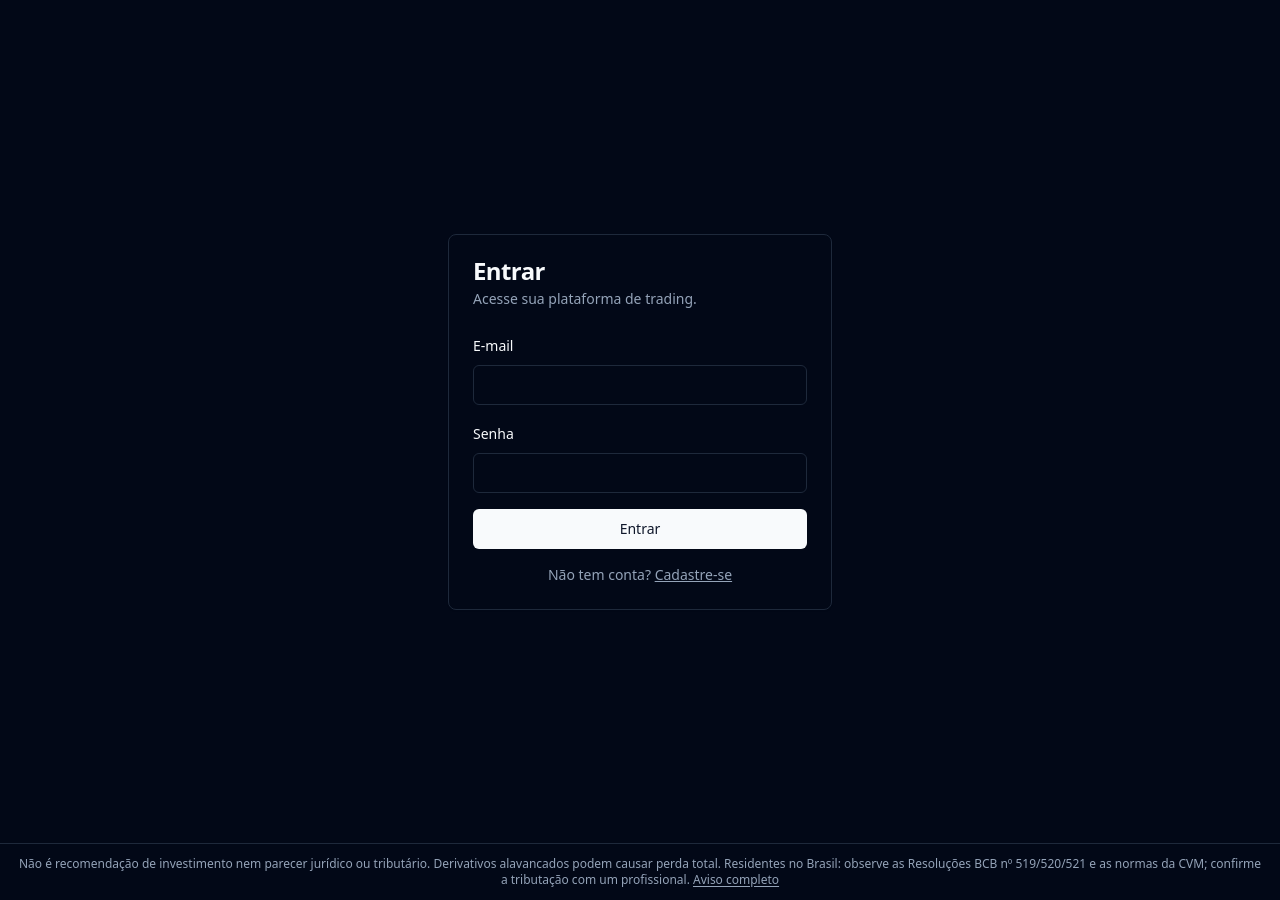
Test: AuthForm › switches to recovery codes and back to the password step
Step 1. Type "ana@exemplo.com" into the field labelled "E-mail" → {"x": 640, "y": 384}, box [473,364,807,404]
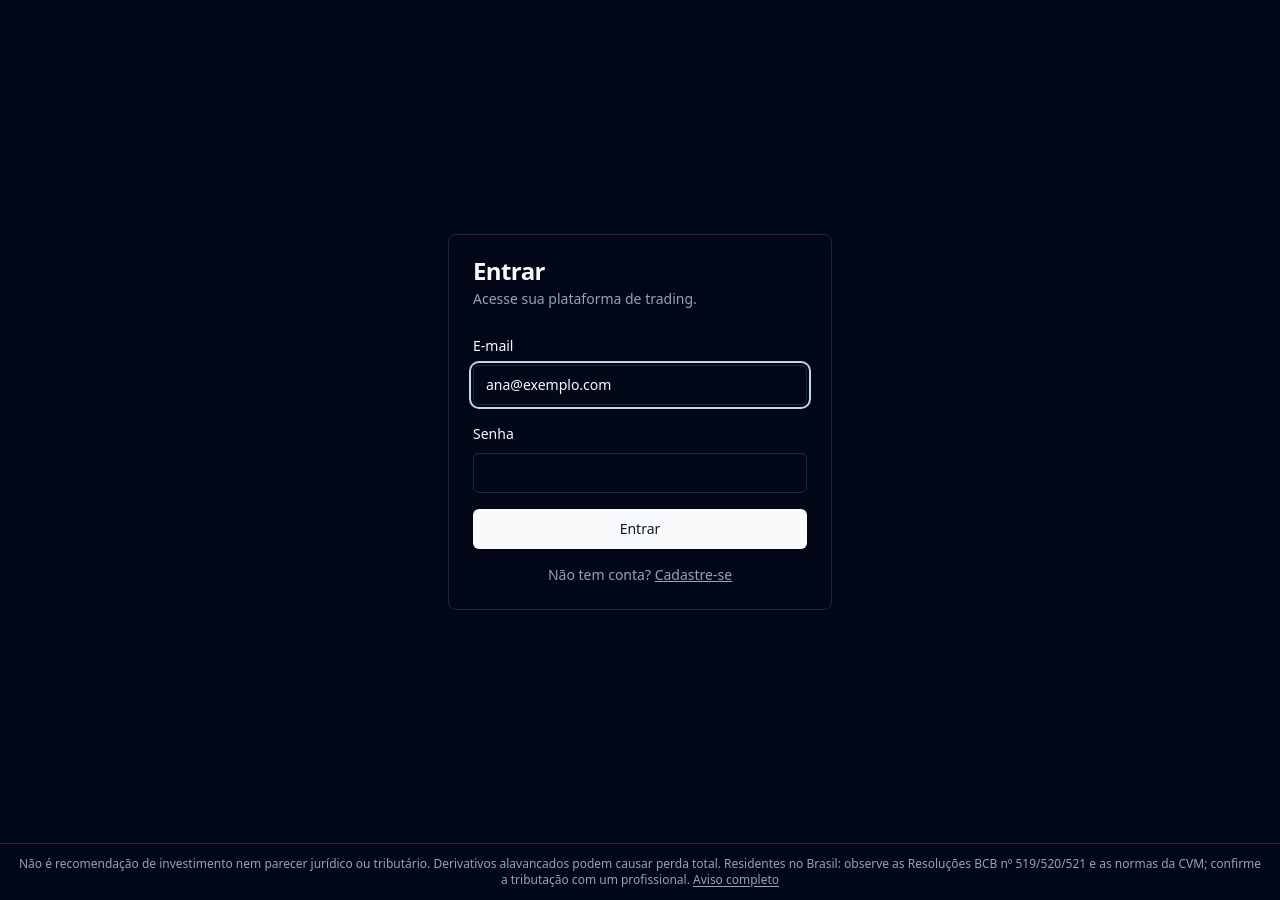
Step 2. Type "segredo-123" into the password field labelled "Senha" → {"x": 640, "y": 472}, box [473,452,807,492]
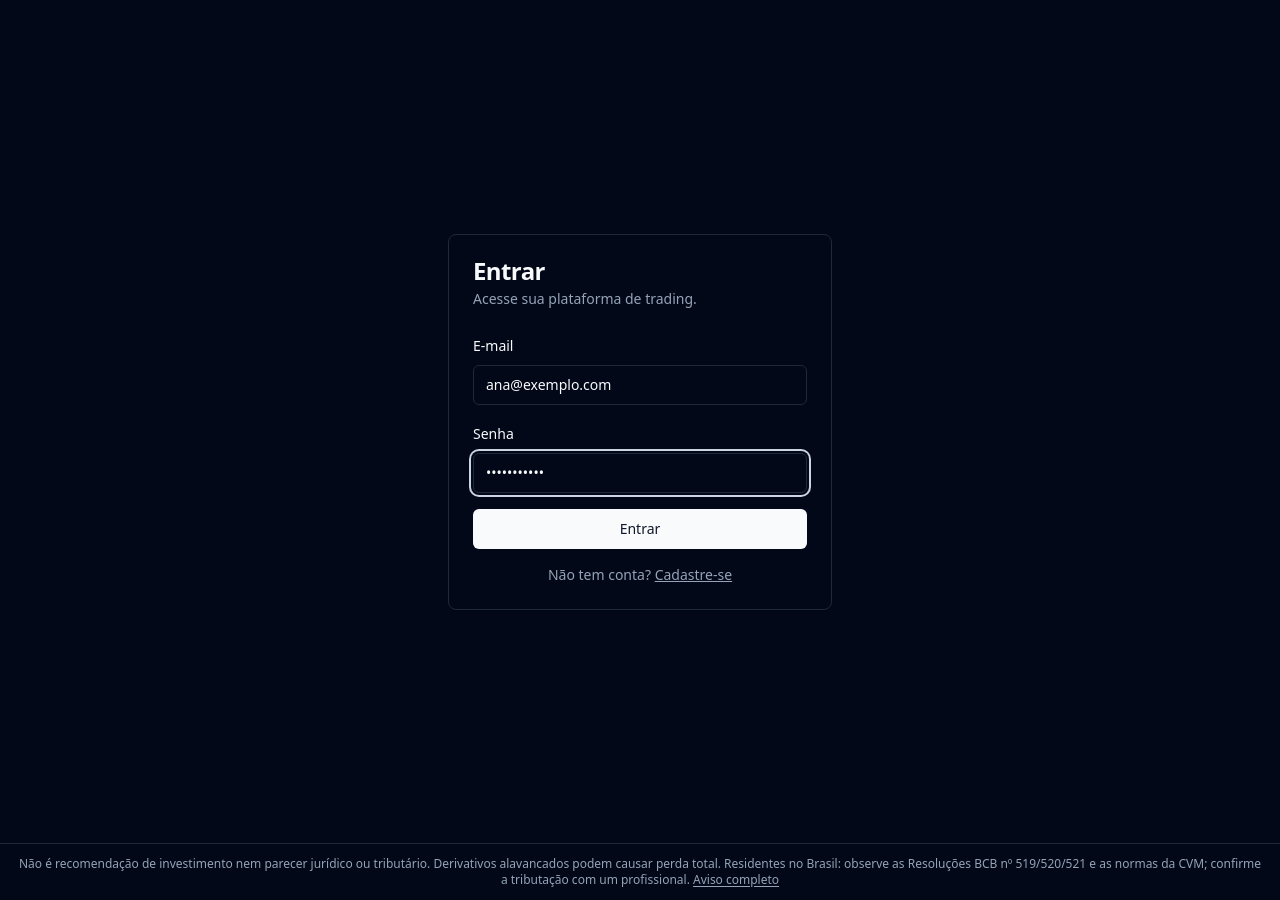
Step 3. Click the button "Entrar" → {"x": 640, "y": 528}, box [473,508,807,548]
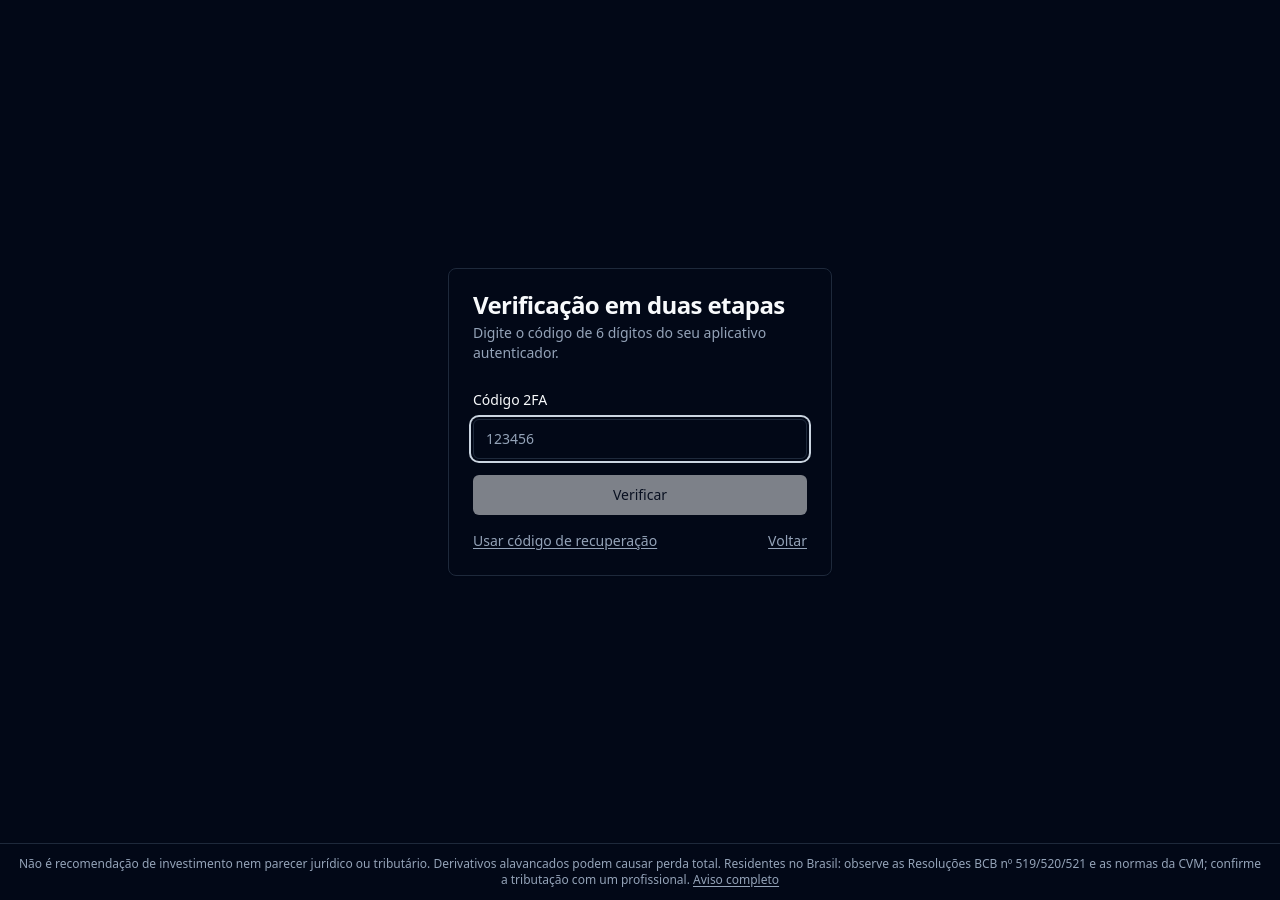
Step 4. Click the button "Usar código de recuperação" → {"x": 565, "y": 540}, box [473,530,657,550]
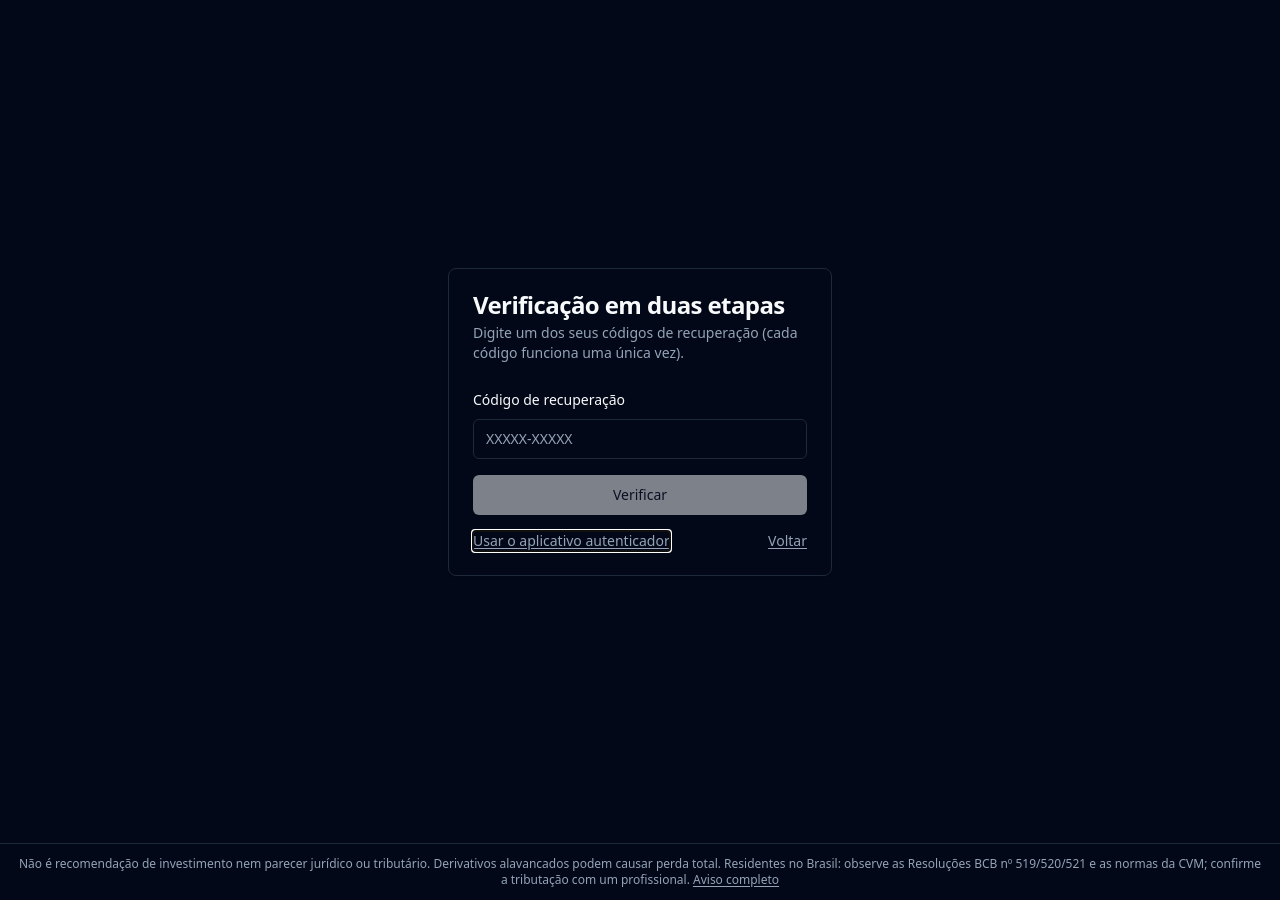
Expected: the field labelled "Código de recuperação" is shown, [473,418,807,458]
Step 5. Click the button "Voltar" → {"x": 788, "y": 540}, box [768,530,807,550]
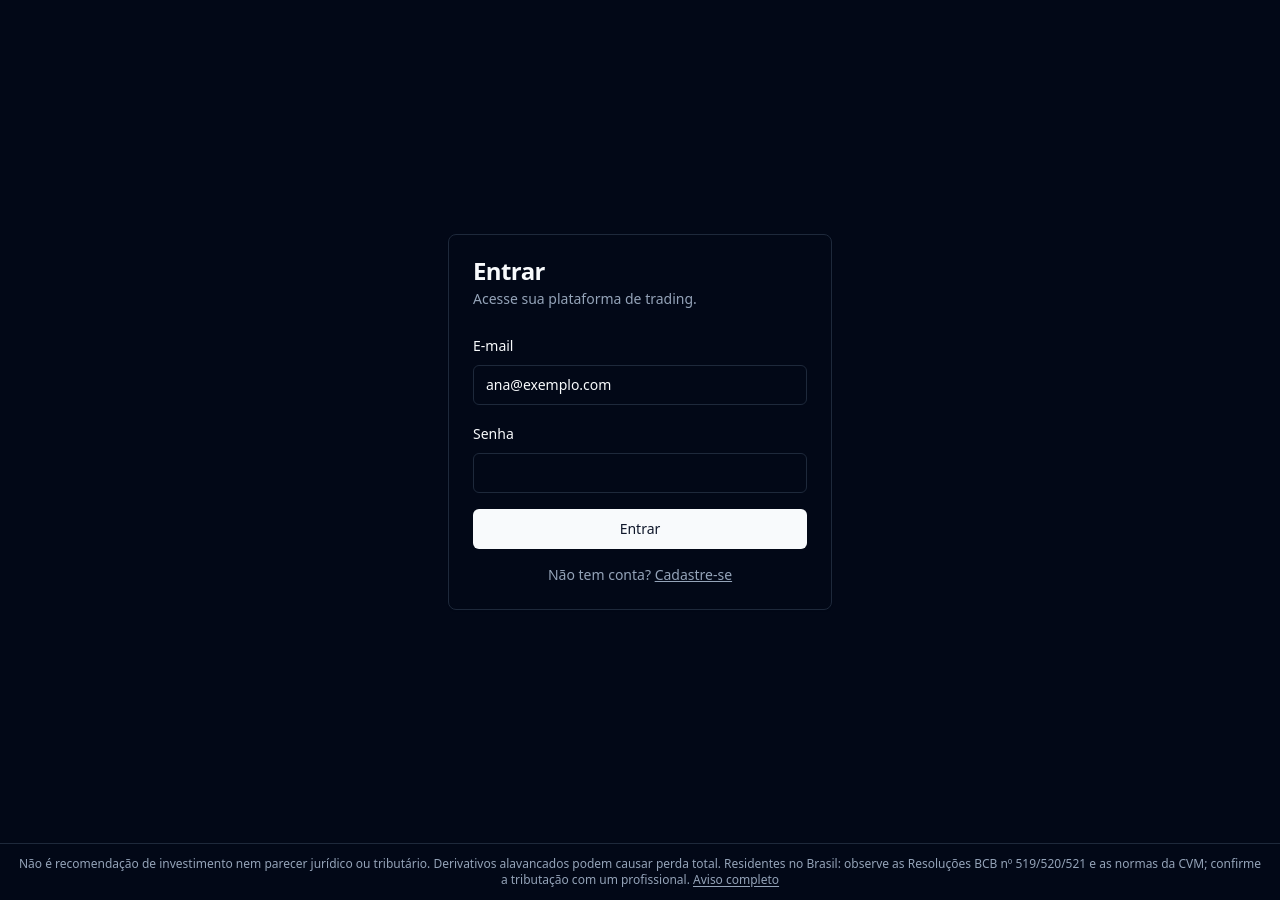
Expected: the heading "Entrar" is shown, [473,254,545,286]
